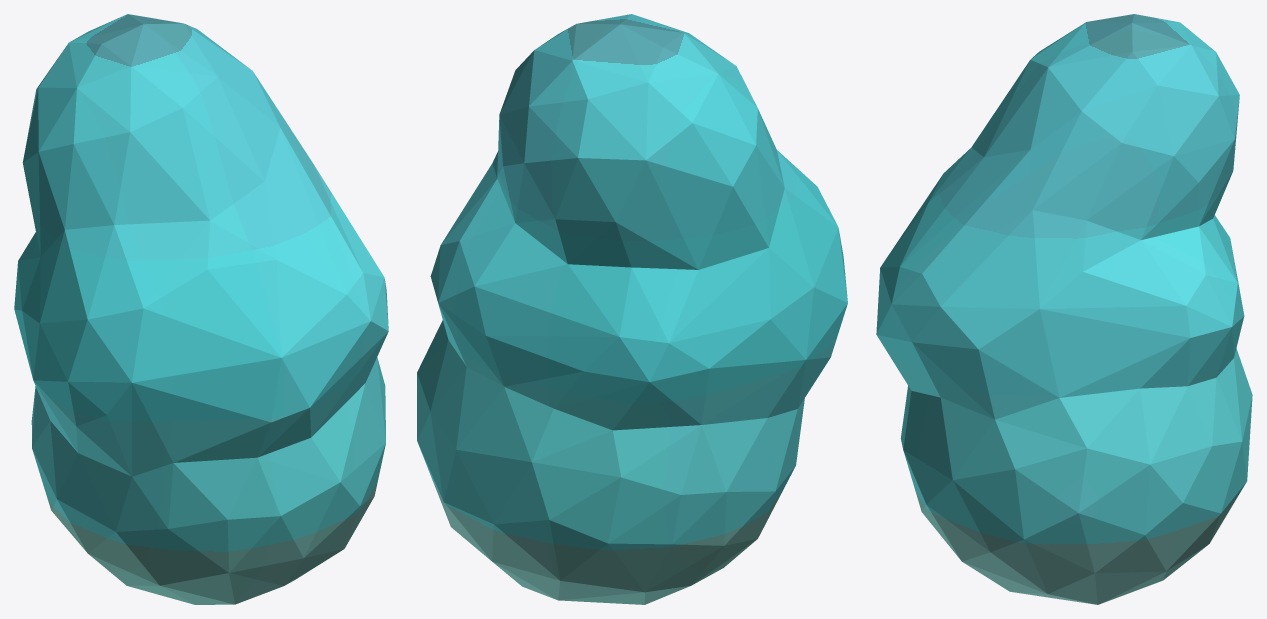
Rendered from Fruit1.obj.
The picture shows the model from 3 angles, left to right: view 1: azimuth 30°, elevation 25°; view 2: azimuth 150°, elevation 25°; view 3: azimuth 270°, elevation 25°; orthographic projection. The views are drawn at different scales.
Parts seen in each view (by area): view 1: fruit1:Group26350 group; view 2: fruit1:Group26350 group; view 3: fruit1:Group26350 group.
Boxes of the visible parts, x1,y1,x2,y2 form: fruit1:Group26350 group: (14,14,388,604); fruit1:Group26350 group: (417,14,847,604); fruit1:Group26350 group: (876,14,1252,604).
Bounding box in the file's own units: 2.19 × 3.42 × 2.14.
Materials: 1 (1 with a texture image).
